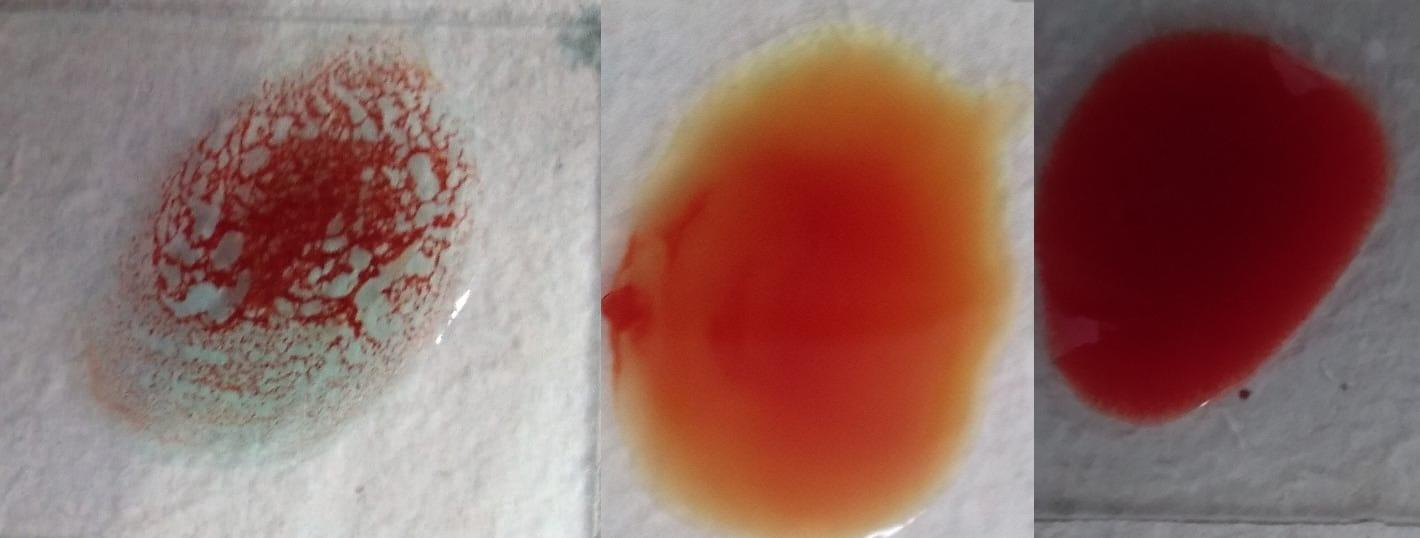A: (75, 35, 482, 470)
